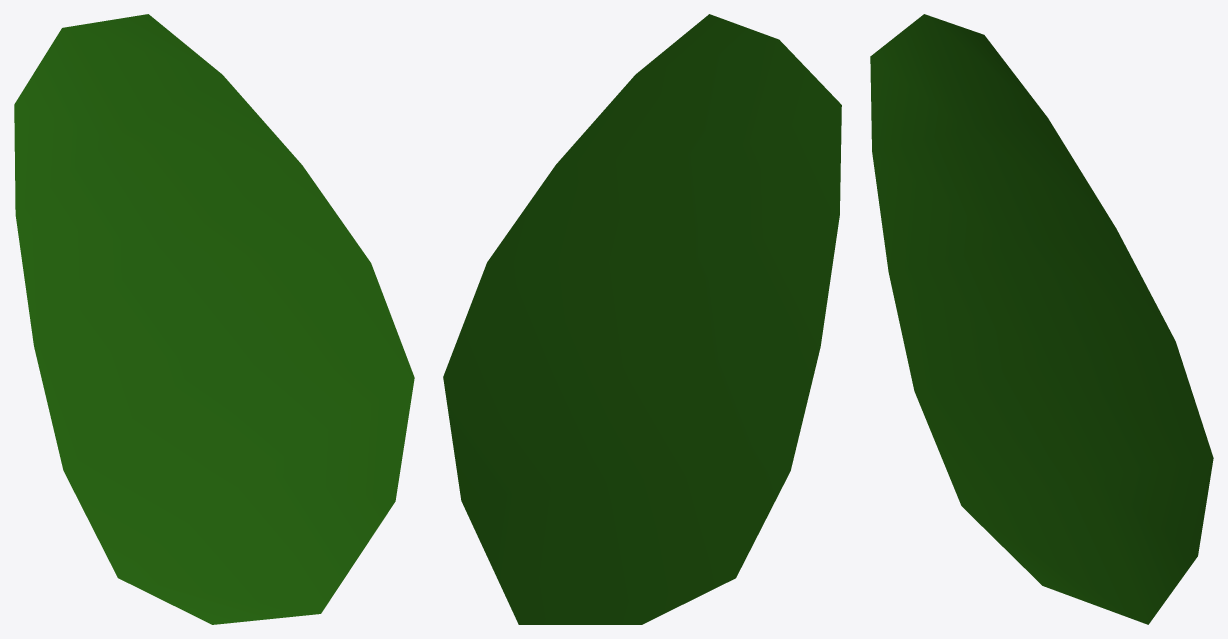
File: lovebird_feather_flight_tertiary_054.001.obj
The picture shows the model from 3 angles, left to right: view 1: azimuth 30°, elevation 25°; view 2: azimuth 150°, elevation 25°; view 3: azimuth 330°, elevation 25°; orthographic projection. The views are drawn at different scales.
Visible parts, largest first — view 1: feather_flight_tertiary_054.001; view 2: feather_flight_tertiary_054.001; view 3: feather_flight_tertiary_054.001.
Part boxes in pixels (x1,y1,x2,y2): feather_flight_tertiary_054.001: [14, 14, 414, 624]; feather_flight_tertiary_054.001: [443, 14, 841, 624]; feather_flight_tertiary_054.001: [870, 14, 1213, 624].
Bounding box in the file's own units: 0.00472 × 0.00733 × 0.000194.
